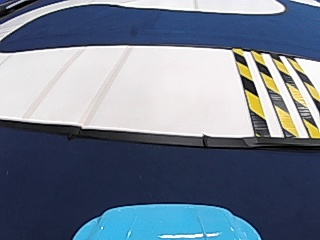bump: (218, 49, 313, 130)
